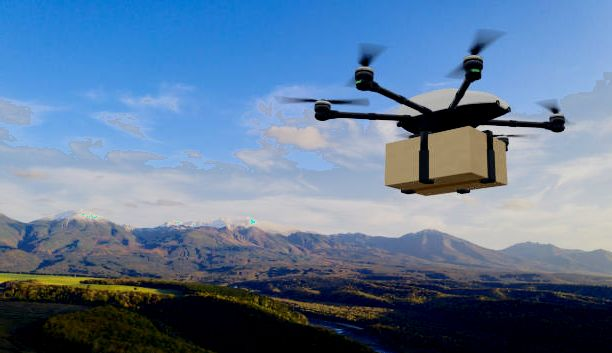Drone: (273, 24, 577, 139)
